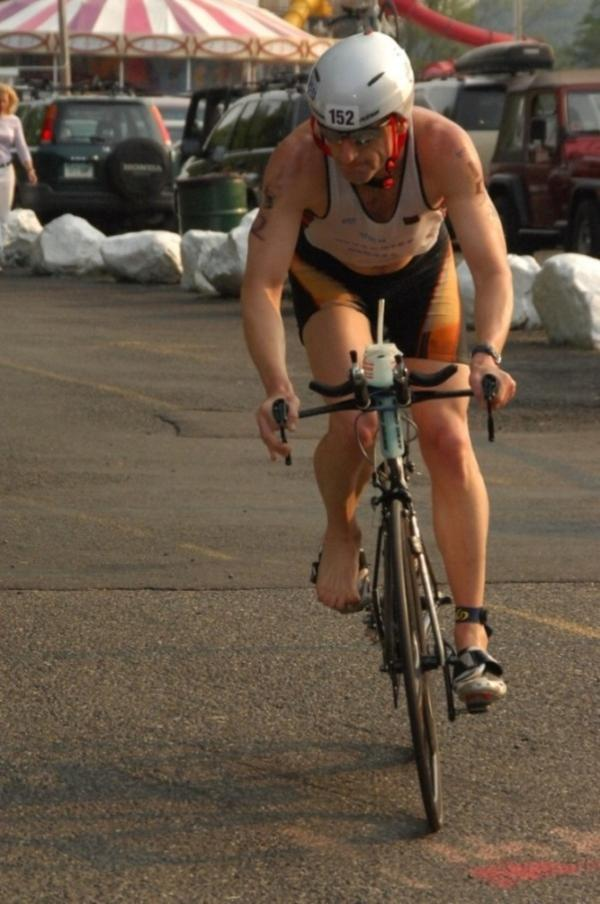person: (240, 31, 518, 703)
